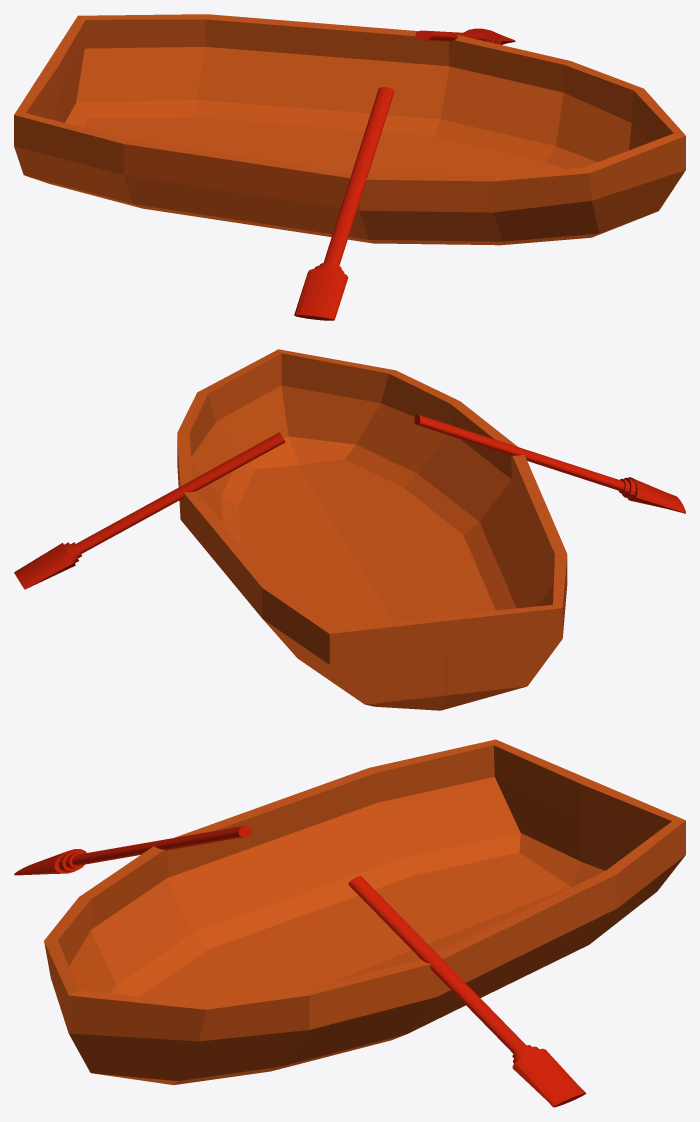
The model's file is boat.obj.
3 renders of one model, top to bottom at view 1: azimuth 30°, elevation 25°; view 2: azimuth 150°, elevation 25°; view 3: azimuth 270°, elevation 25°, orthographic. The views are drawn at different scales.
Parts seen in each view (by area): view 1: Plane, Cylinder.001, Cylinder; view 2: Plane, Cylinder, Cylinder.001; view 3: Plane, Cylinder, Cylinder.001.
Part boxes in pixels (x1=…): Plane: x1=14, y1=14, x2=685, y2=245; Cylinder.001: x1=294, y1=87, x2=394, y2=320; Cylinder: x1=415, y1=28, x2=515, y2=44; Plane: x1=177, y1=349, x2=567, y2=710; Cylinder: x1=14, y1=432, x2=285, y2=589; Cylinder.001: x1=414, y1=414, x2=685, y2=513; Plane: x1=44, y1=739, x2=685, y2=1085; Cylinder: x1=348, y1=876, x2=586, y2=1107; Cylinder.001: x1=14, y1=825, x2=251, y2=875.
Bounding box in the file's own units: 3.81 × 1.02 × 3.79.
